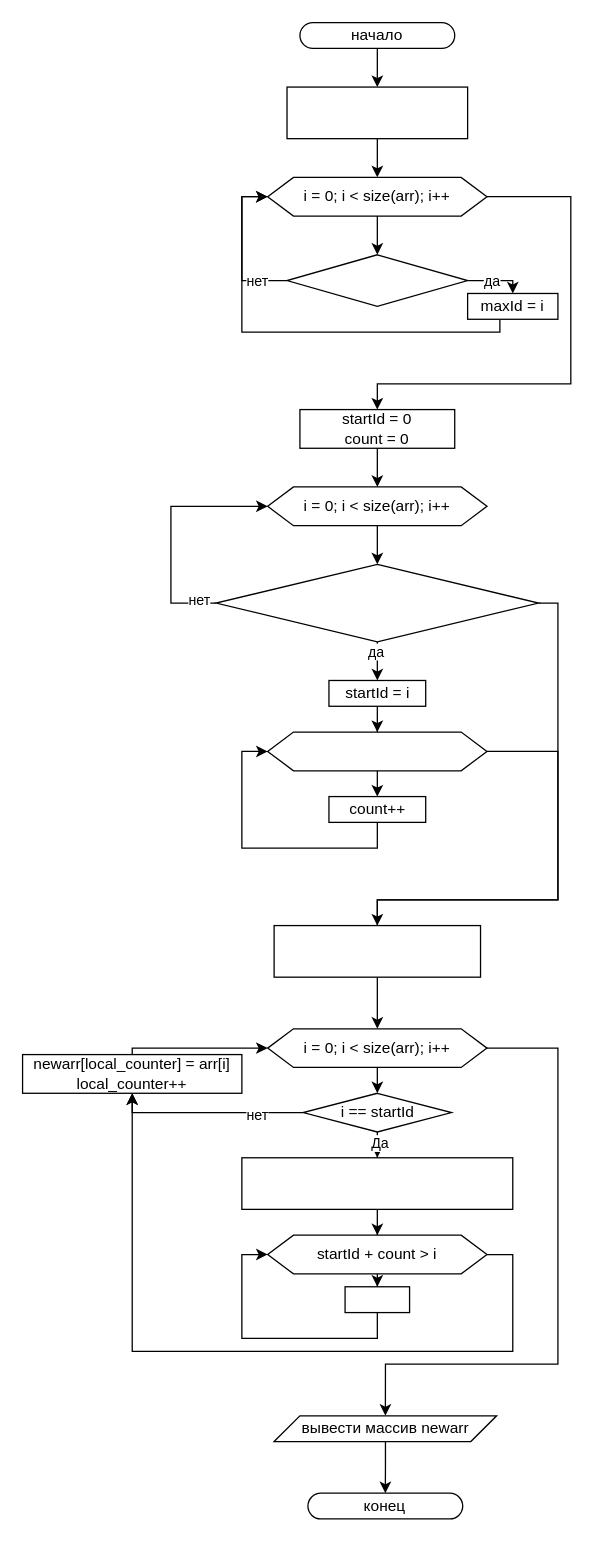
The diagram is 604 pixels wide and 1542 high, and some of its shapes have lost their labels. The shapes that lost their labels are listed below. From the top down, each one's box as (x1, y1, x2, y2) in pixels, then its label:
(286, 86, 468, 139): Массив arr с группой 0 maxId = 0
(286, 253, 468, 306): arr[i] > arr[maxId]
(215, 563, 539, 642): arr[i] == 0 и arr[i+1] == 0
(266, 731, 487, 771): arr[i+count] == 0
(273, 924, 481, 977): newarr[size(arr) - count+1] local_counter = 0
(241, 1156, 513, 1209): newarr[local_counter] = arr[maxId] local_counter++
(344, 1285, 410, 1313): i++
